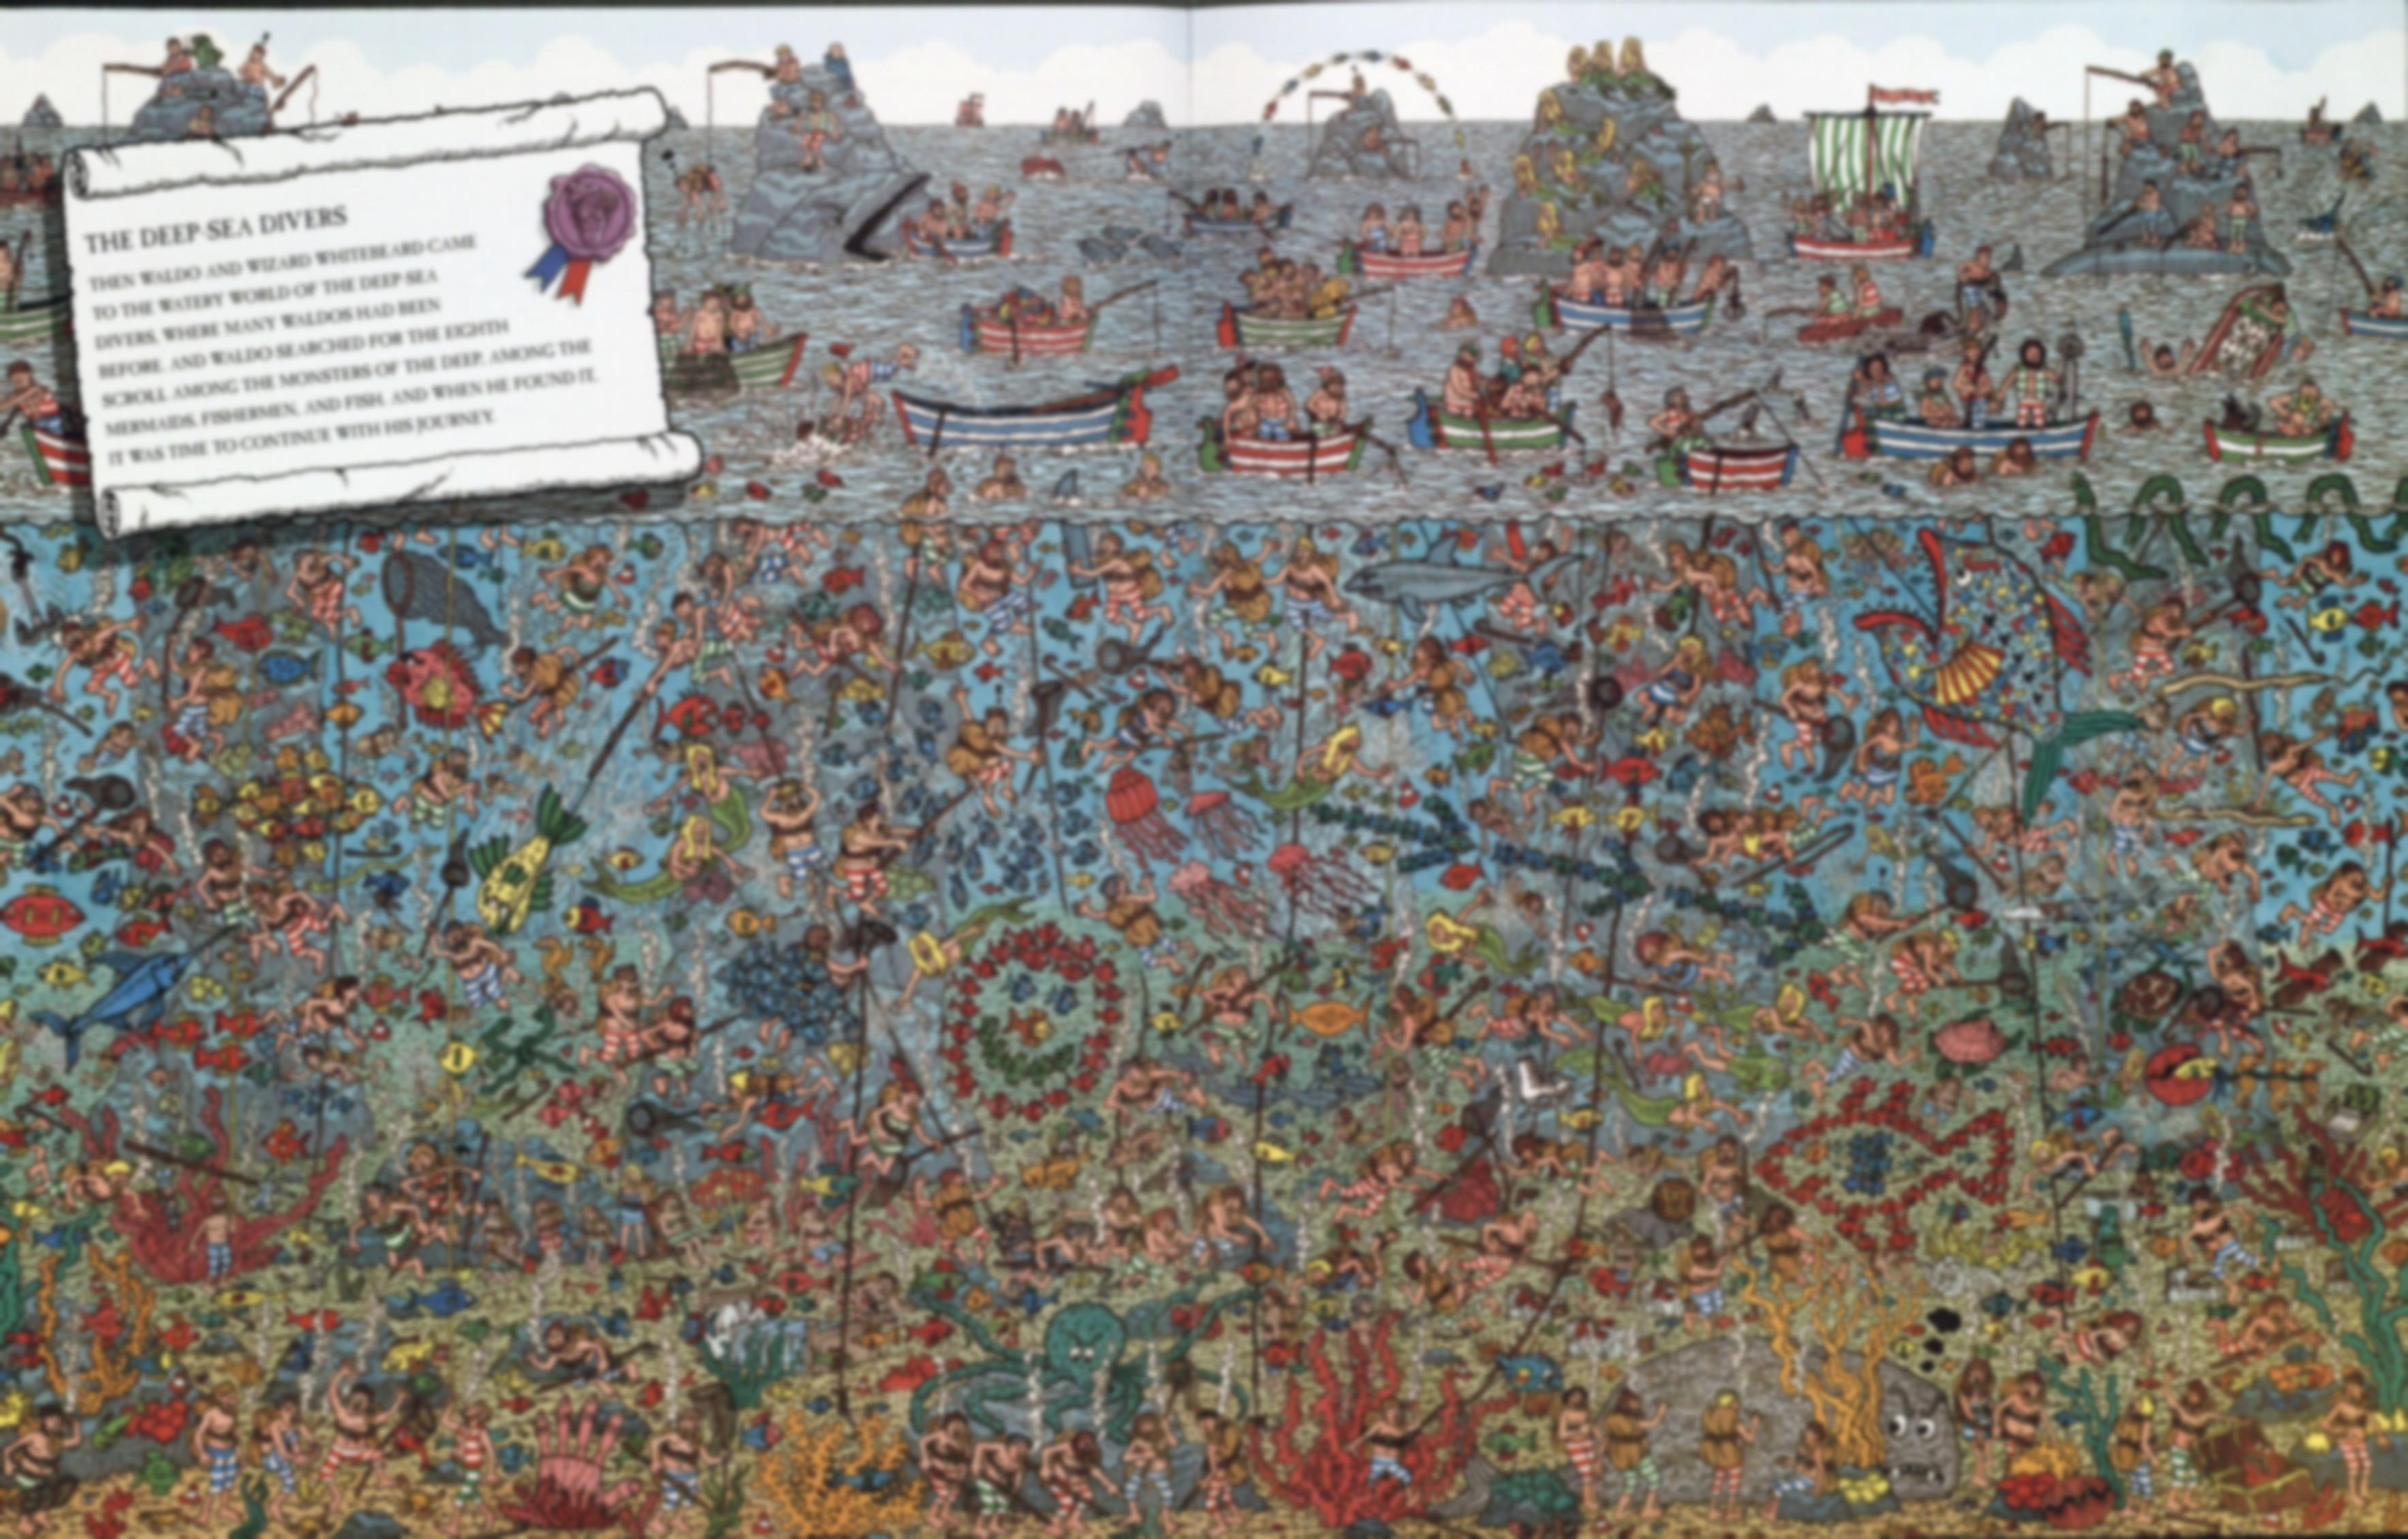waldos: (1587, 230, 1608, 270)
